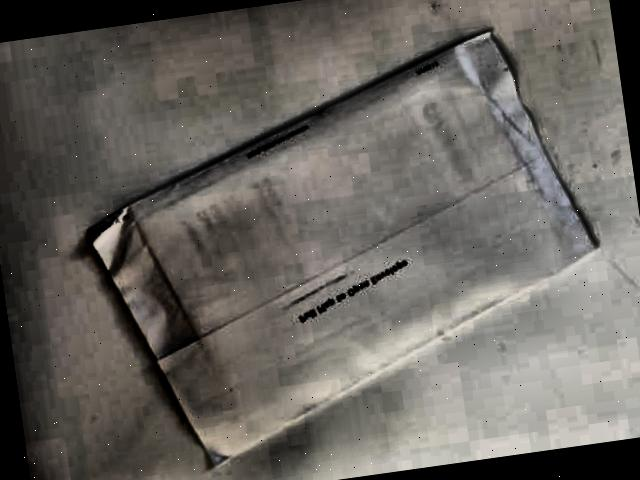Paper: (61, 12, 639, 480)
